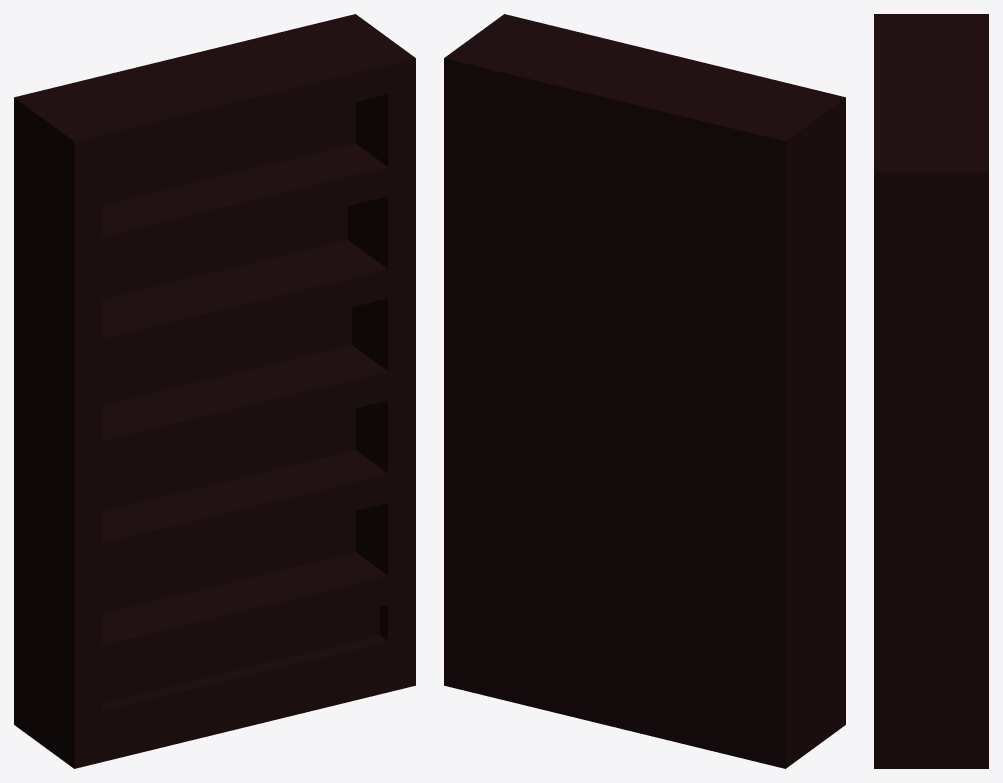
File: Bibliotheque vide.obj
3 renders of one model, left to right at view 1: azimuth 30°, elevation 25°; view 2: azimuth 150°, elevation 25°; view 3: azimuth 270°, elevation 25°, orthographic. The views are drawn at different scales.
Parts seen in each view (by area): view 1: Bibliotheque vide; view 2: Bibliotheque vide; view 3: Bibliotheque vide.
Part boxes in pixels (x1,y1,x2,y2): Bibliotheque vide: (14, 14, 415, 768); Bibliotheque vide: (444, 14, 845, 768); Bibliotheque vide: (874, 14, 988, 768).
Size of the model in its own units: 49 by 86 by 15.
Materials: 1 (1 with a texture image).
